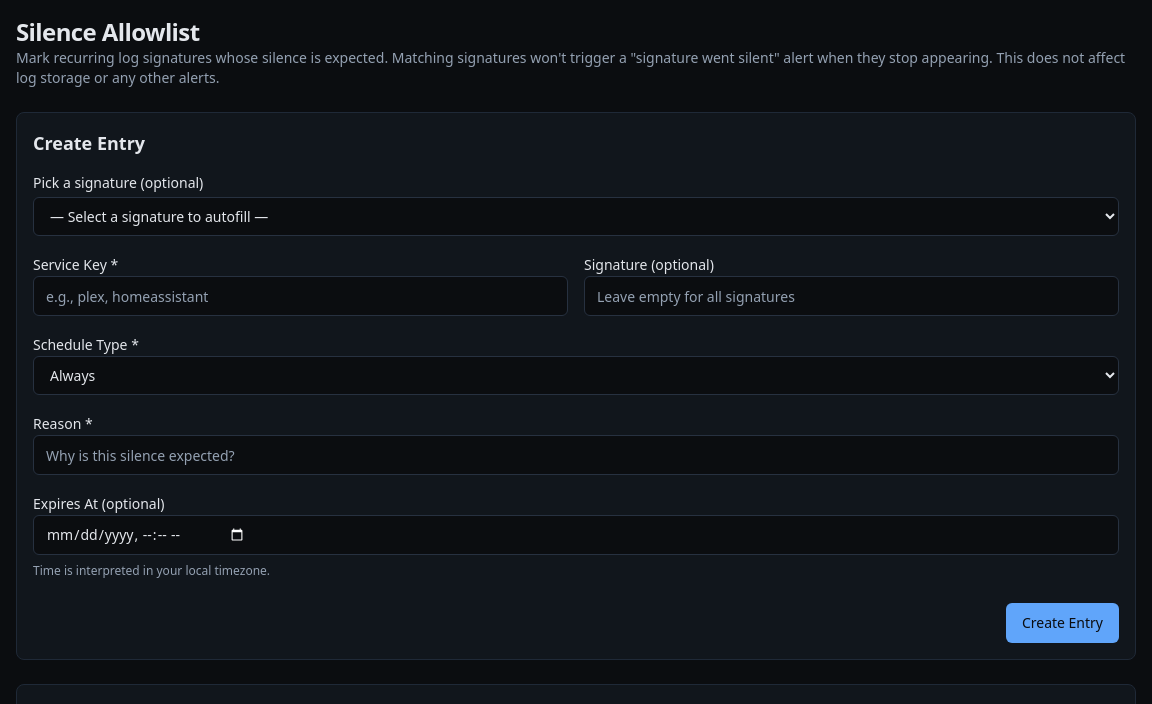
SilenceAllowlistTab › autofills service_key and template_hash when a signature is selected
The image size is (1152, 704).
Select "plex — Starting Plex Media Server" in the dropdown with test id "silence-signature-picker" at (576, 216), box [33,197,1119,236]
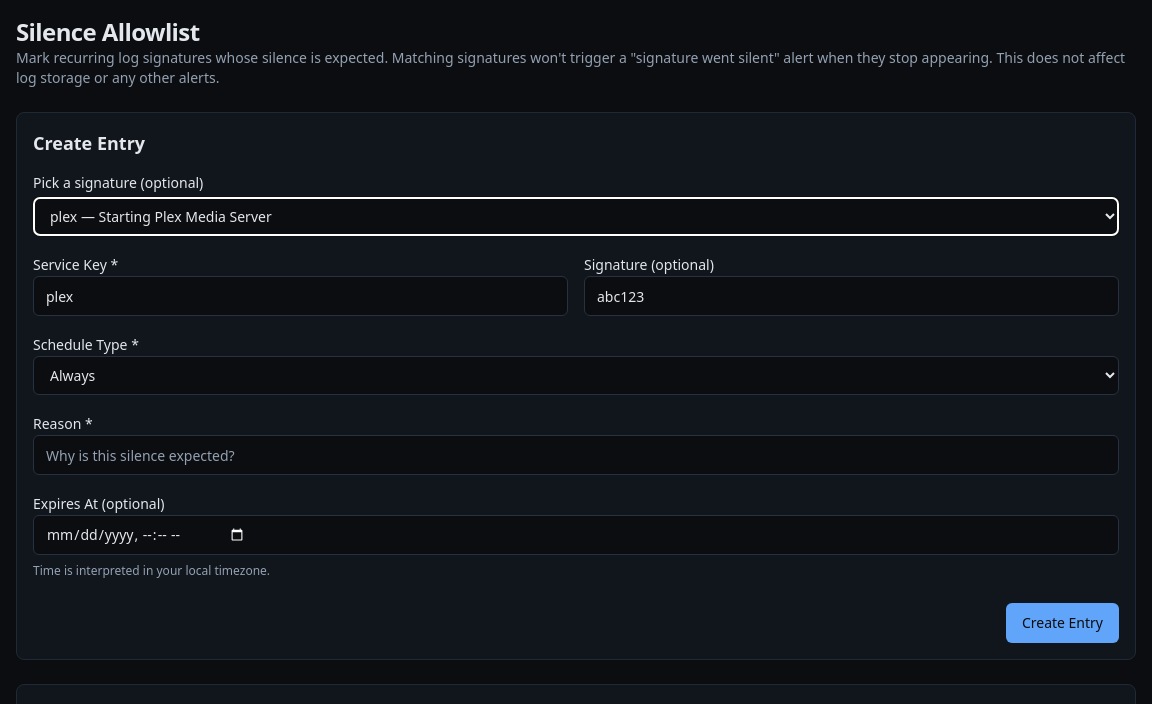
Expected: the field with test id "silence-service-key" holds "plex", [33,276,568,316]
Expected: the field with test id "silence-template-hash" holds "abc123", [584,276,1119,316]
